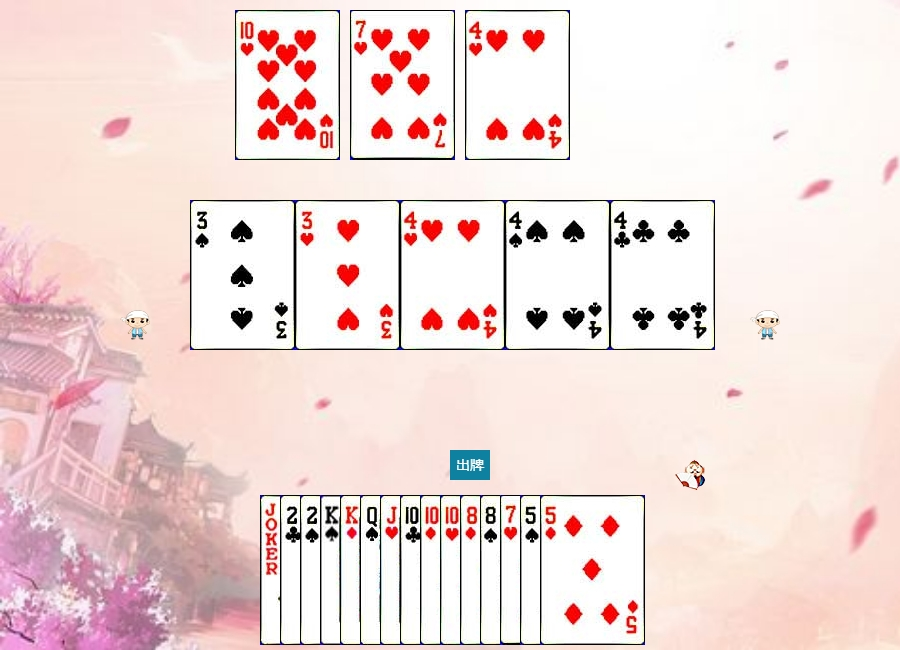10~1: (420, 495, 525, 645)
10~2: (400, 495, 505, 645)
10~3: (235, 10, 340, 160), (440, 495, 545, 645)
11~3: (380, 495, 485, 645)
12~4: (360, 495, 465, 645)
13~1: (340, 495, 445, 645)
13~4: (320, 495, 425, 645)
15~2: (280, 495, 385, 645)
15~4: (300, 495, 405, 645)
18~4: (260, 495, 365, 645)
3~3: (295, 200, 400, 350)
3~4: (190, 200, 295, 350)
4~2: (610, 200, 715, 350)
4~3: (465, 10, 570, 160), (400, 200, 505, 350)
4~4: (505, 200, 610, 350)
5~1: (540, 495, 645, 645)
5~4: (520, 495, 625, 645)
7~3: (350, 10, 455, 160), (500, 495, 605, 645)
8~1: (460, 495, 565, 645)
8~4: (480, 495, 585, 645)
